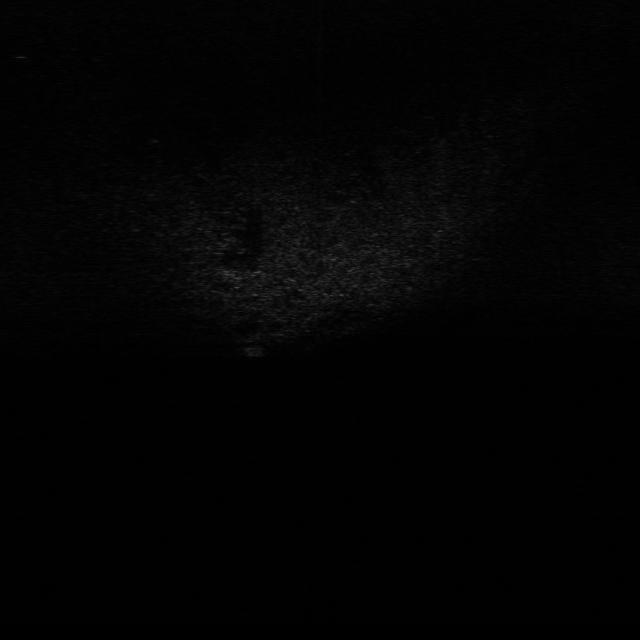cube: (240, 338, 270, 361)
